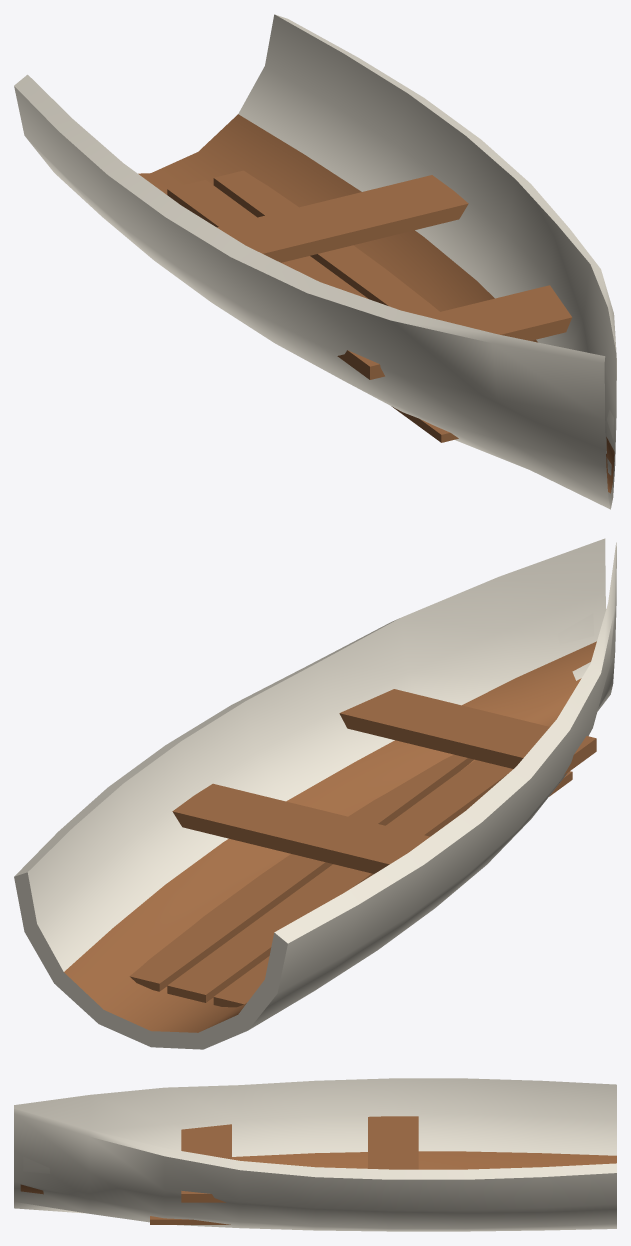
Rendered from rowboat.glb.
The picture shows the model from 3 angles, top to bottom: view 1: azimuth 30°, elevation 25°; view 2: azimuth 150°, elevation 25°; view 3: azimuth 270°, elevation 25°; orthographic projection. The views are drawn at different scales.
Parts seen in each view (by area): view 1: rowboat; view 2: rowboat; view 3: rowboat.
Boxes of the visible parts, x1,y1,x2,y2 form: rowboat: (14, 14, 616, 509); rowboat: (14, 538, 616, 1049); rowboat: (14, 1078, 616, 1231).
Bounding box in the file's own units: 0.6158 × 0.3179 × 1.55.
